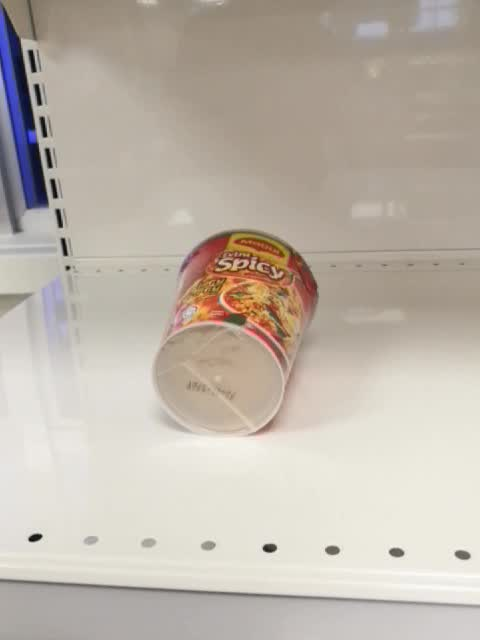maggi: (151, 228, 320, 439)
